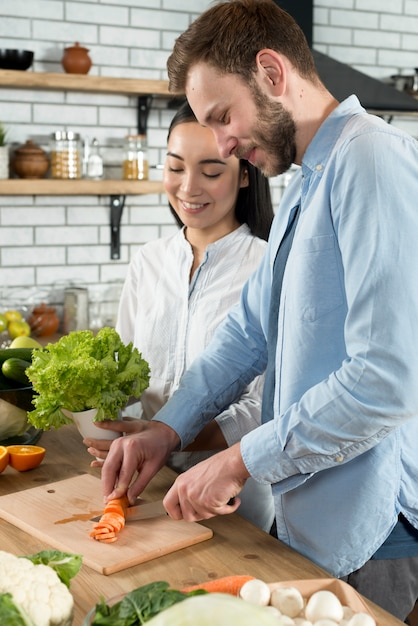knife: (93, 498, 190, 524)
